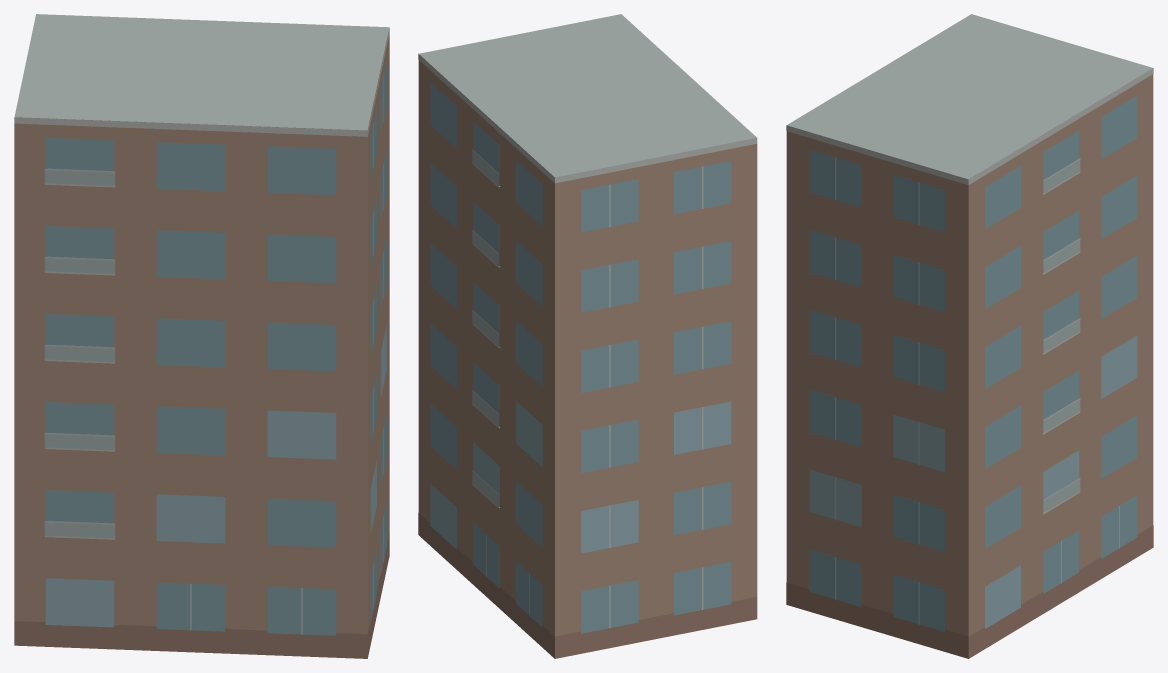
Rendered from survey-upis-32968824.glb.
3 renders of one model, left to right at view 1: azimuth 30°, elevation 25°; view 2: azimuth 150°, elevation 25°; view 3: azimuth 270°, elevation 25°, orthographic. The views are drawn at different scales.
Parts seen in each view (by area): view 1: survey-upis-32968824.tmp; view 2: survey-upis-32968824.tmp; view 3: survey-upis-32968824.tmp.
Boxes of the visible parts, box(x1,y1,x2,y2) form: survey-upis-32968824.tmp: box(14, 14, 389, 658); survey-upis-32968824.tmp: box(418, 14, 757, 658); survey-upis-32968824.tmp: box(786, 14, 1153, 658).
Size of the model in its own units: 14.88 by 20.1 by 13.95.
